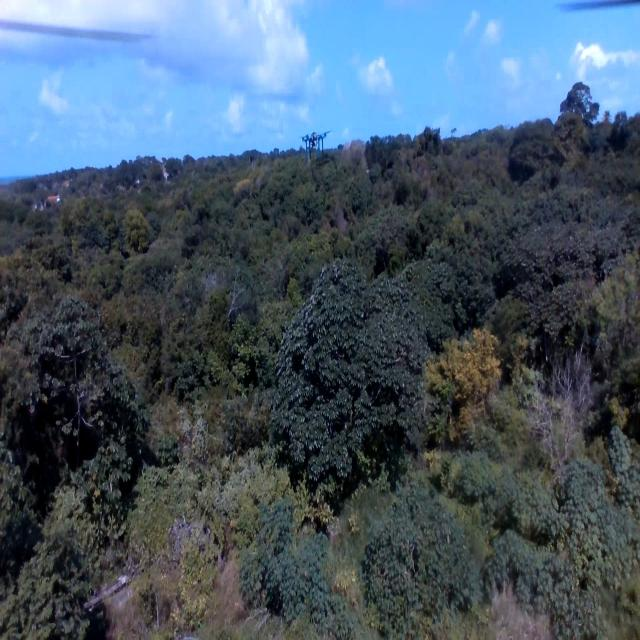-uav-: (298, 124, 334, 166)
